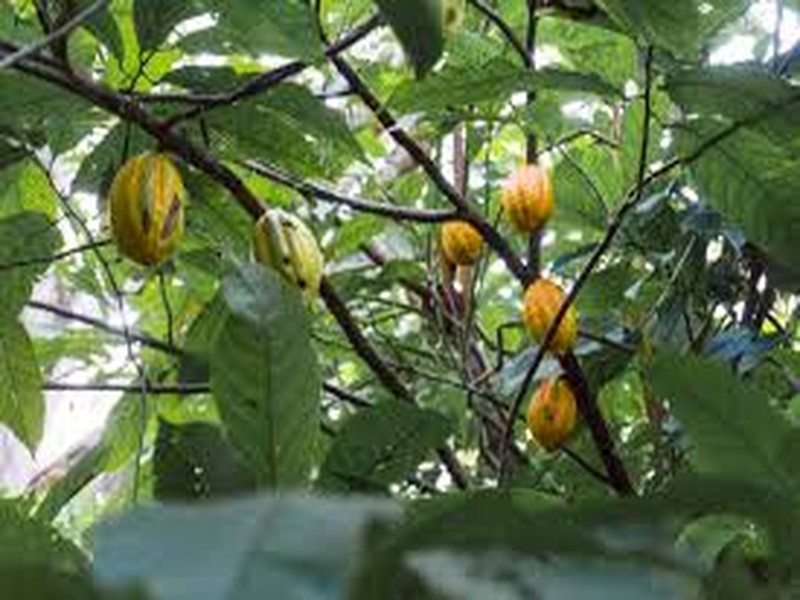Cacaopod: (110, 152, 188, 263)
